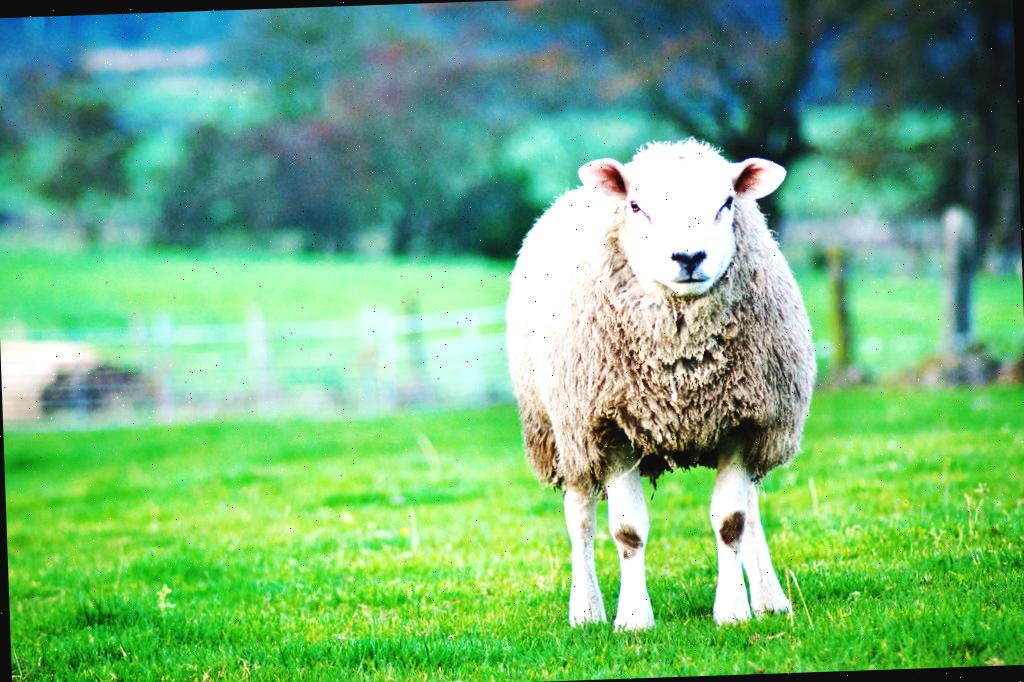Sheep: (492, 134, 834, 637)
